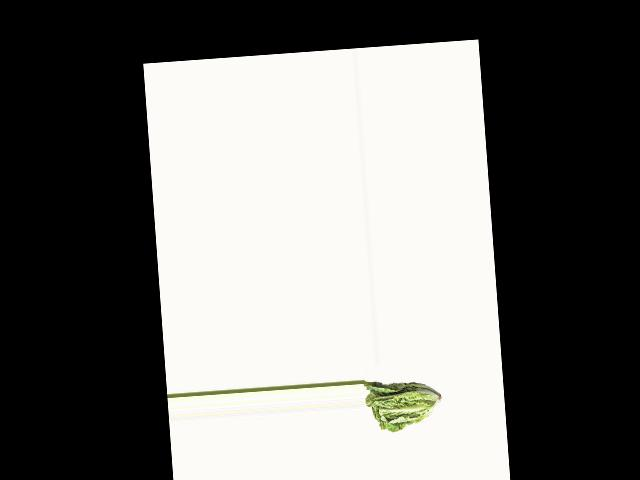lettuce: (364, 376, 442, 436)
